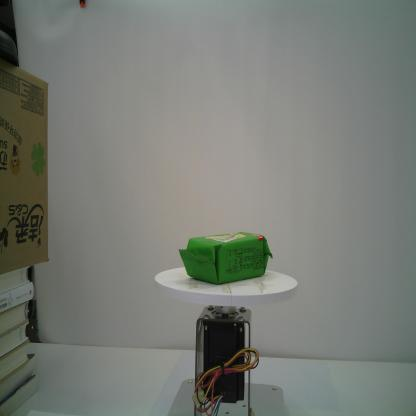Dessert: (178, 232, 274, 286)
